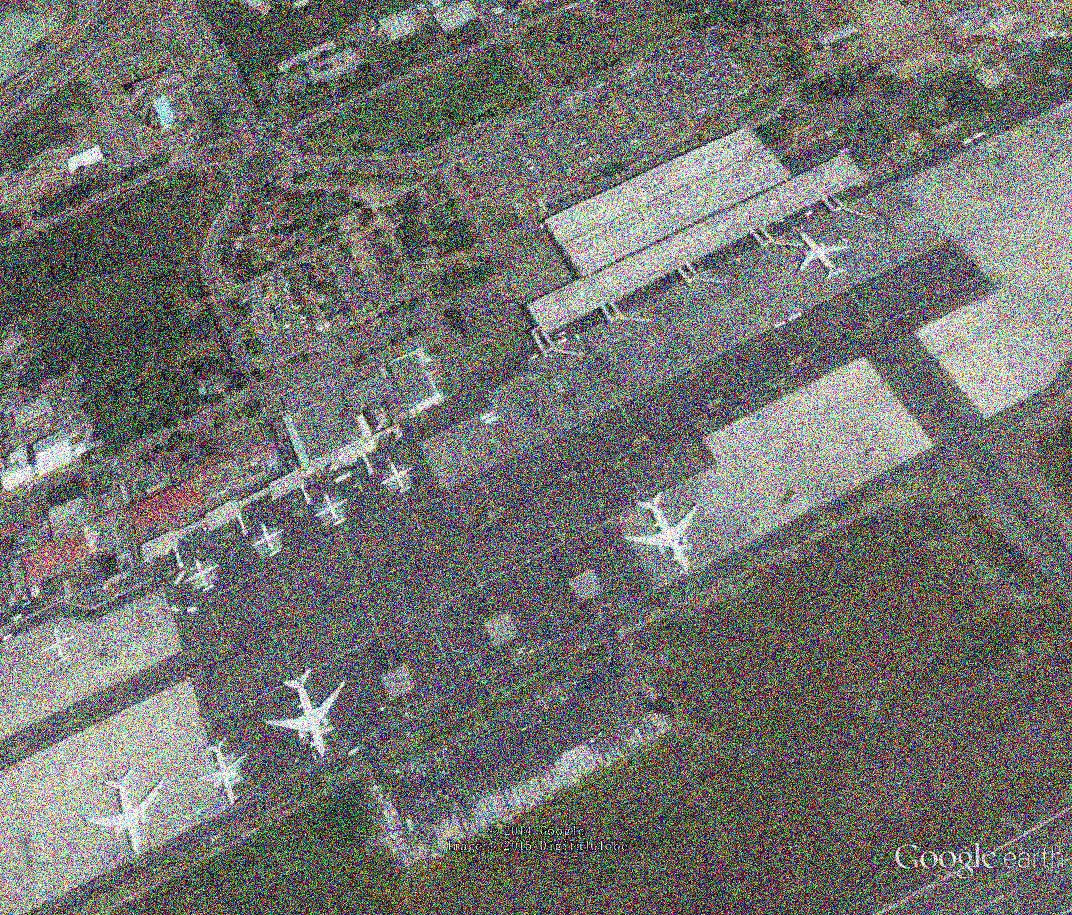aircraft: (259, 666, 352, 768), (80, 766, 170, 858), (618, 484, 703, 579), (193, 733, 253, 814), (794, 228, 858, 286), (378, 457, 418, 501), (40, 625, 80, 666), (313, 490, 353, 531), (248, 520, 287, 562), (184, 556, 223, 595)
